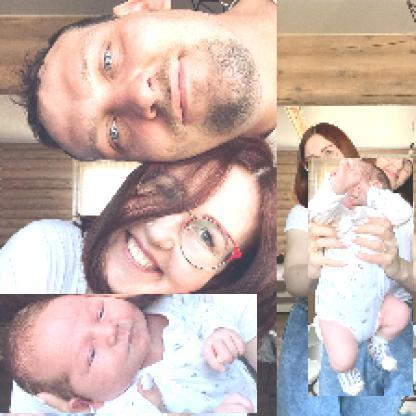child: (1, 295, 259, 415), (309, 159, 415, 398)
